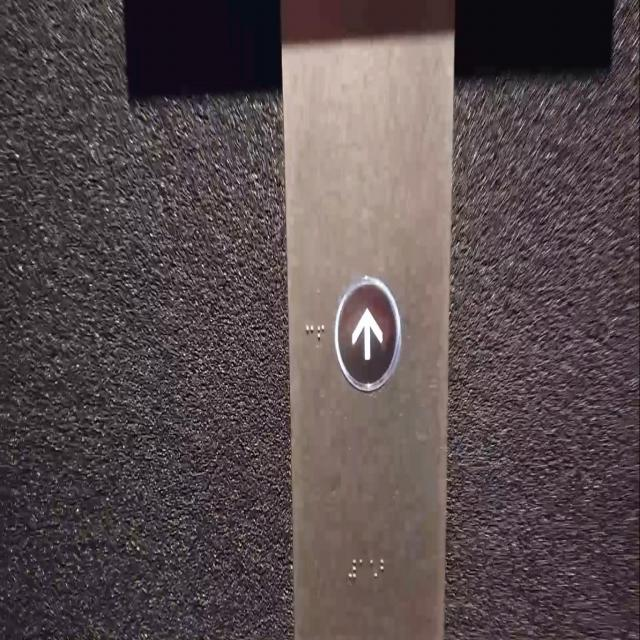up: (332, 272, 403, 395)
